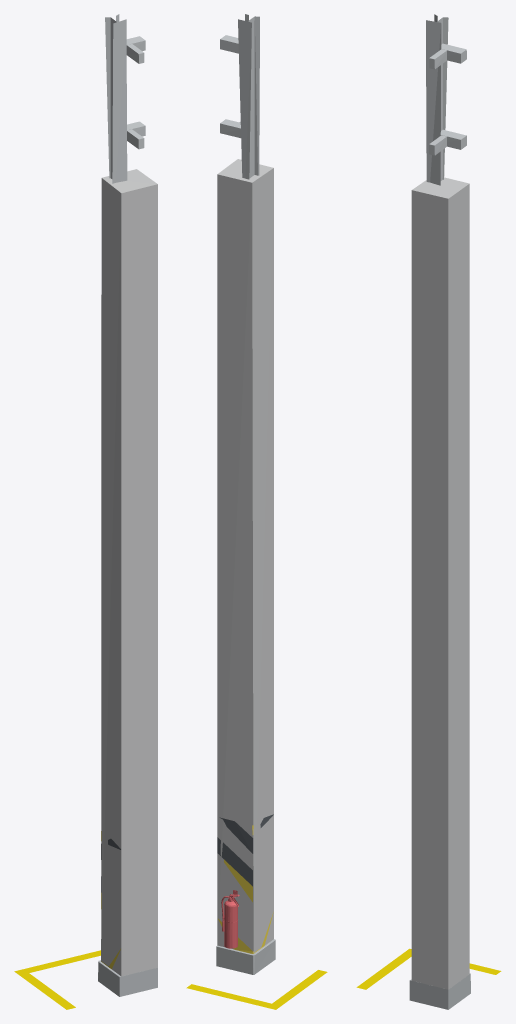
The model's file is galpao-pilar.glb.
3 renders of one model, left to right at view 1: azimuth 30°, elevation 25°; view 2: azimuth 150°, elevation 25°; view 3: azimuth 330°, elevation 25°, orthographic. The views are drawn at different scales.
Parts seen in each view (by area): view 1: #e6e9eb, #a3abb1, #8f979d, #e8b800; view 2: #e6e9eb, #a3abb1, #8f979d, #1f2328, #e8b800, #c8262b, #f0bf14; view 3: #e6e9eb, #a3abb1, #8f979d, #e8b800.
Part boxes in pixels (x1,y1,x2,y2): #e6e9eb: (101,169,157,976); #a3abb1: (105,14,145,183); #8f979d: (98,960,157,996); #e8b800: (14,950,100,1009); #e6e9eb: (217,159,273,952); #a3abb1: (220,14,259,179); #8f979d: (216,939,275,974); #1f2328: (217,814,273,886); #e8b800: (186,970,327,1009); #c8262b: (221,890,239,948); #f0bf14: (218,825,273,953); #e6e9eb: (411,177,469,989); #a3abb1: (426,14,466,185); #8f979d: (409,973,470,1009); #e8b800: (356,948,501,989).
Size of the model in its own units: 0.9505 by 9.6 by 0.9501.
